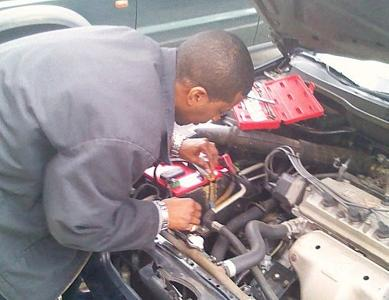person: (1, 26, 256, 300)
